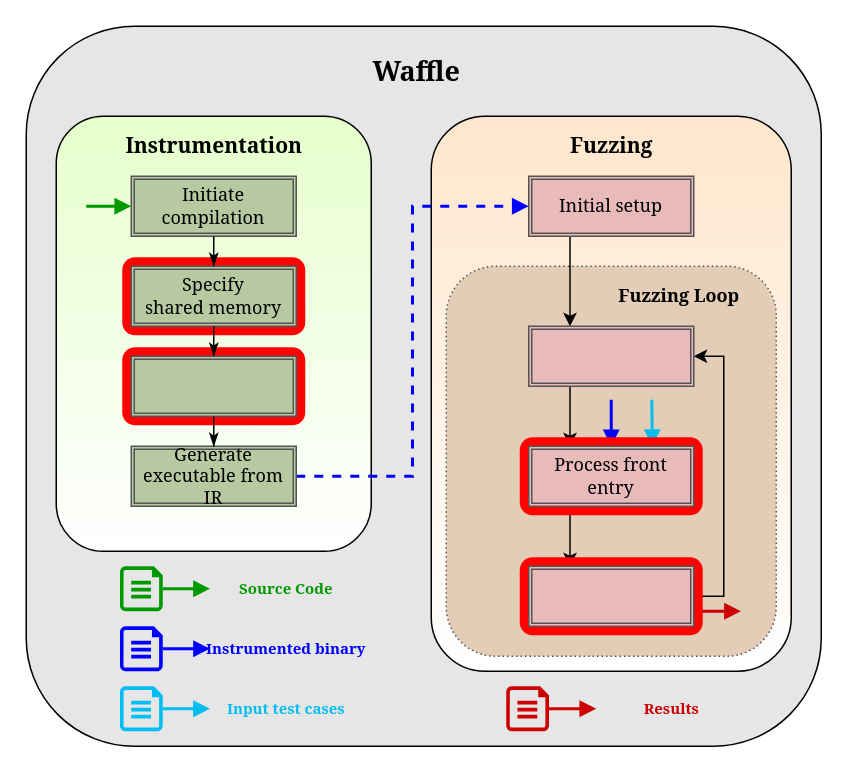
Image size: 848x773. Some labels were removed from this diagram. Here are the shapes that lost their labels. From the top down, the centre of each, then its label:
the point at 610,355: Cull queue
the point at 213,385: Analyze and Insert instructions
the point at 610,595: Fuzz entry
